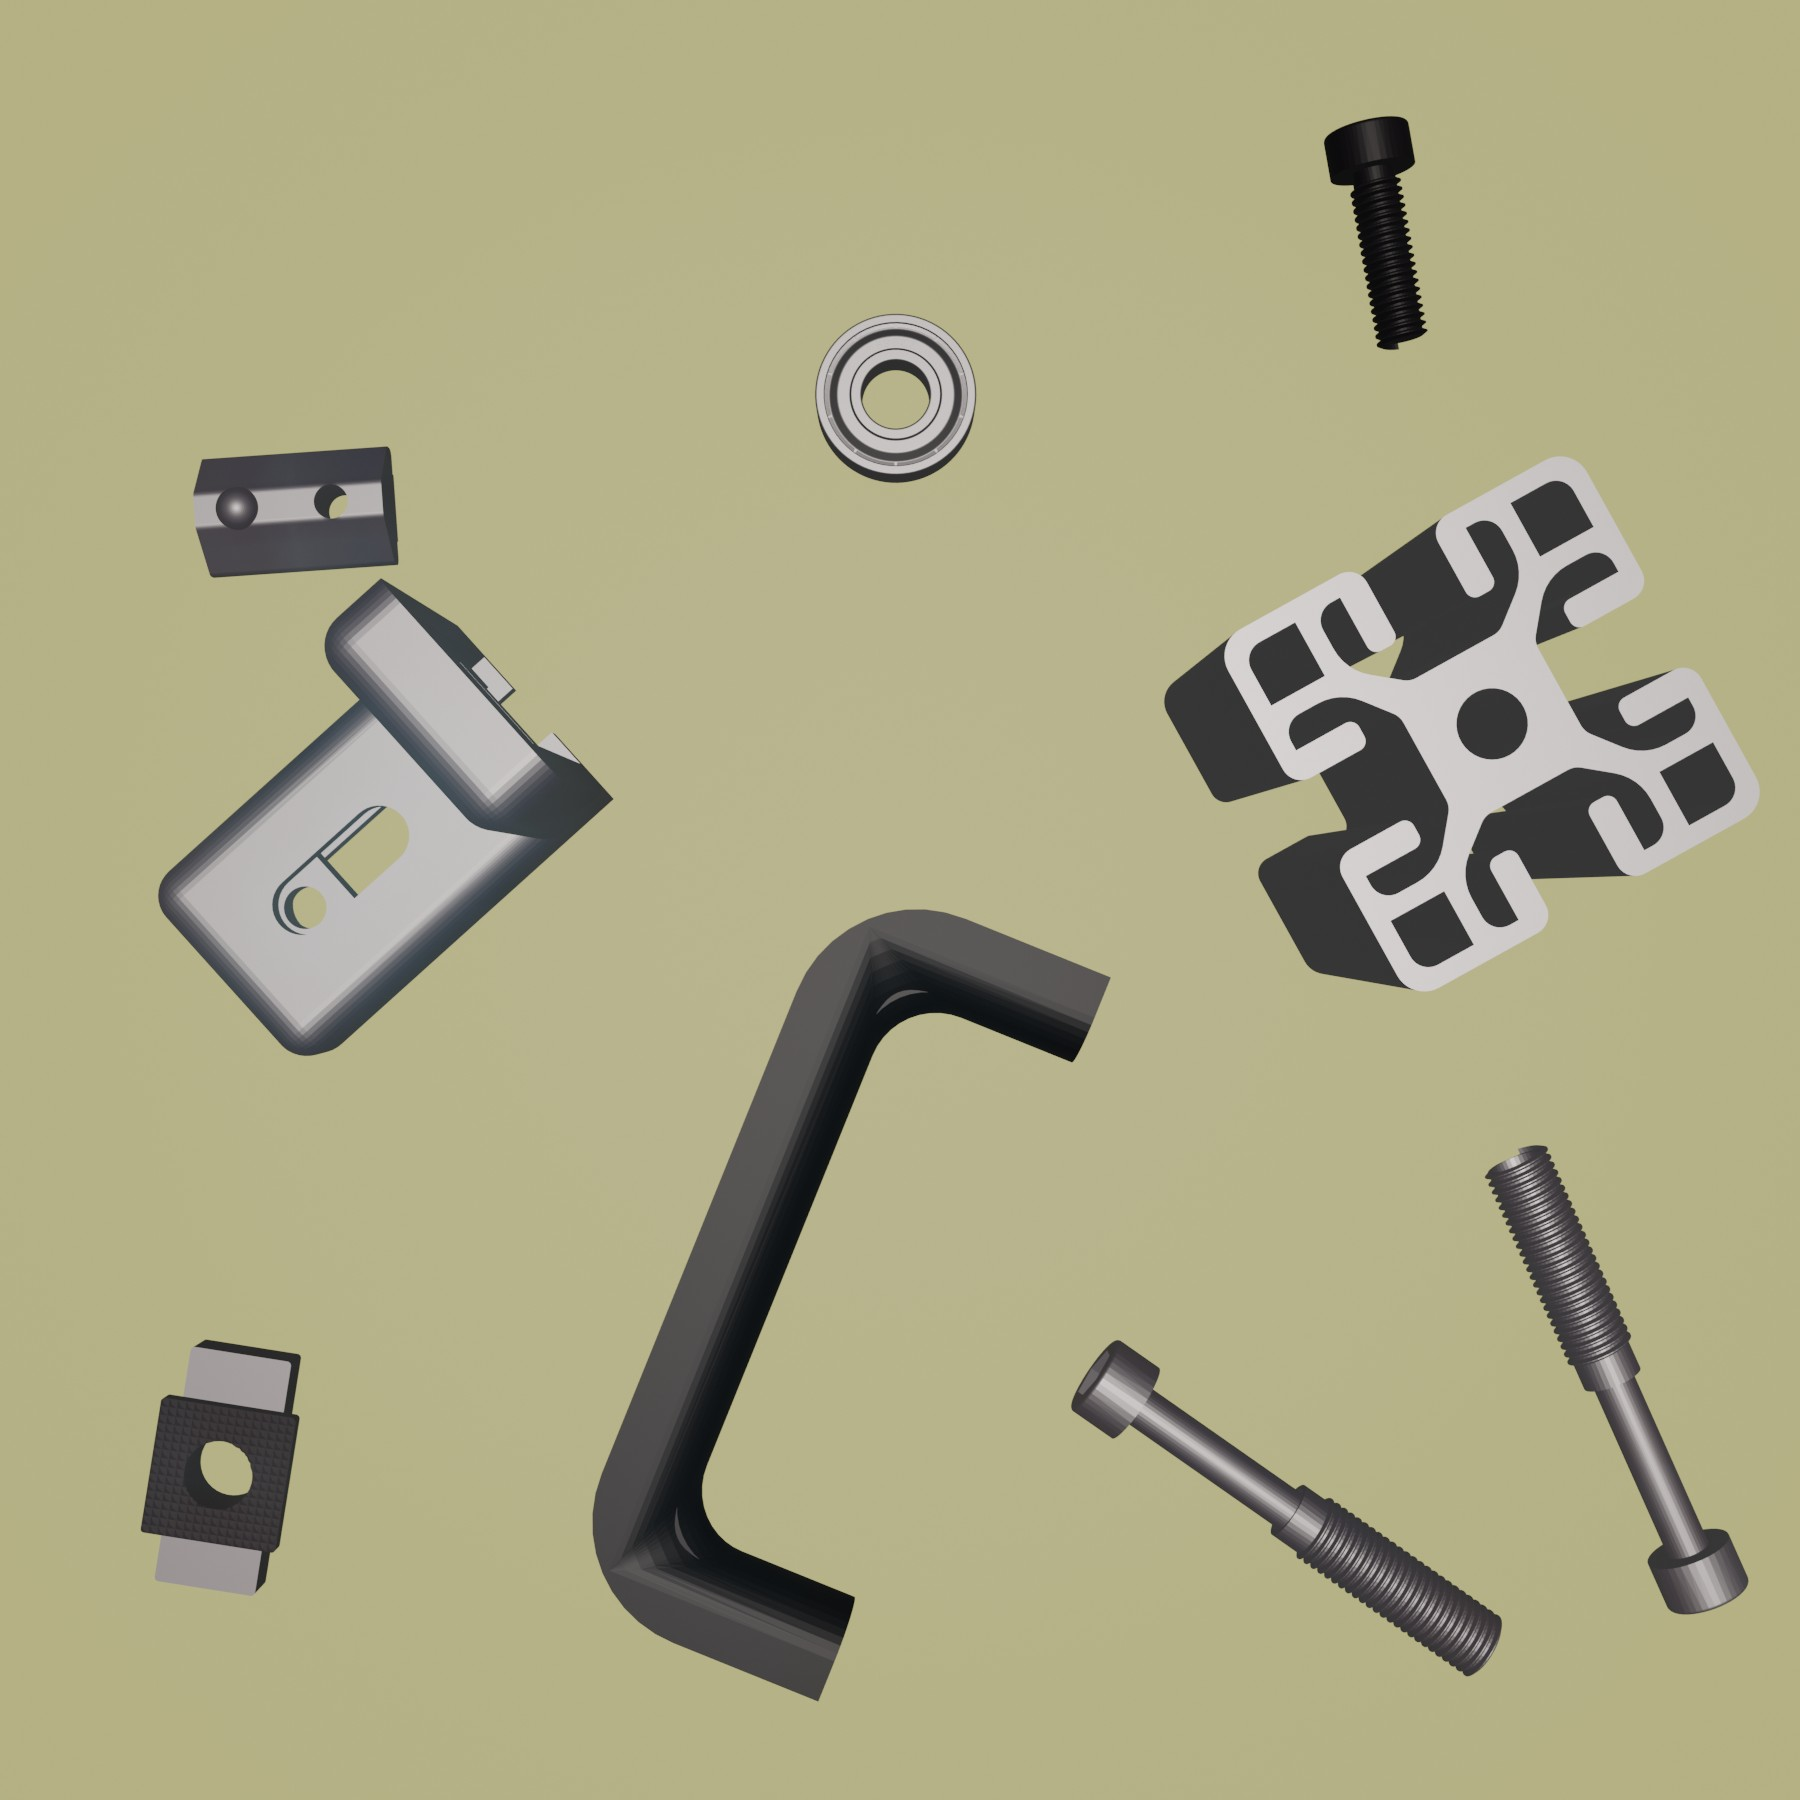Aluminium Extension: (1164, 453, 1765, 996)
Ball Bearing: (811, 313, 977, 486)
Multiwinkel: (155, 574, 616, 1058)
Pull Handle: (590, 905, 1113, 1704)
Shoulder Socket Head Cap Screw: (1066, 1338, 1503, 1678), (1482, 1141, 1752, 1619)
Socket Head Cap Screw: (1320, 112, 1431, 354)
T Nut Square: (138, 1335, 305, 1601)
T Spring Nut: (193, 442, 404, 580)
